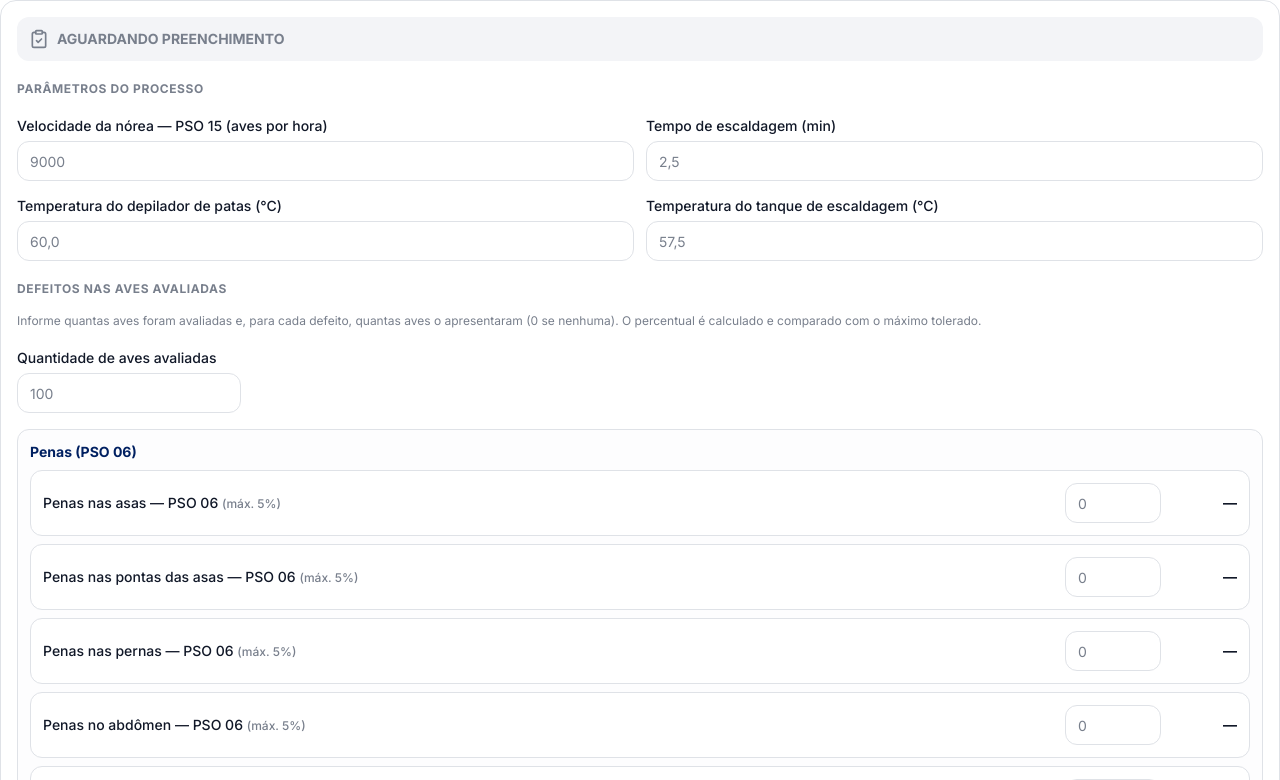
Test case: EscaldagemDepenagemField › devolve o percentual de cada defeito e marca CONFORME dentro do máximo
Type "200" into the field labelled "Quantidade de aves avaliadas". click: (129, 393)
box: [17, 373, 241, 413]
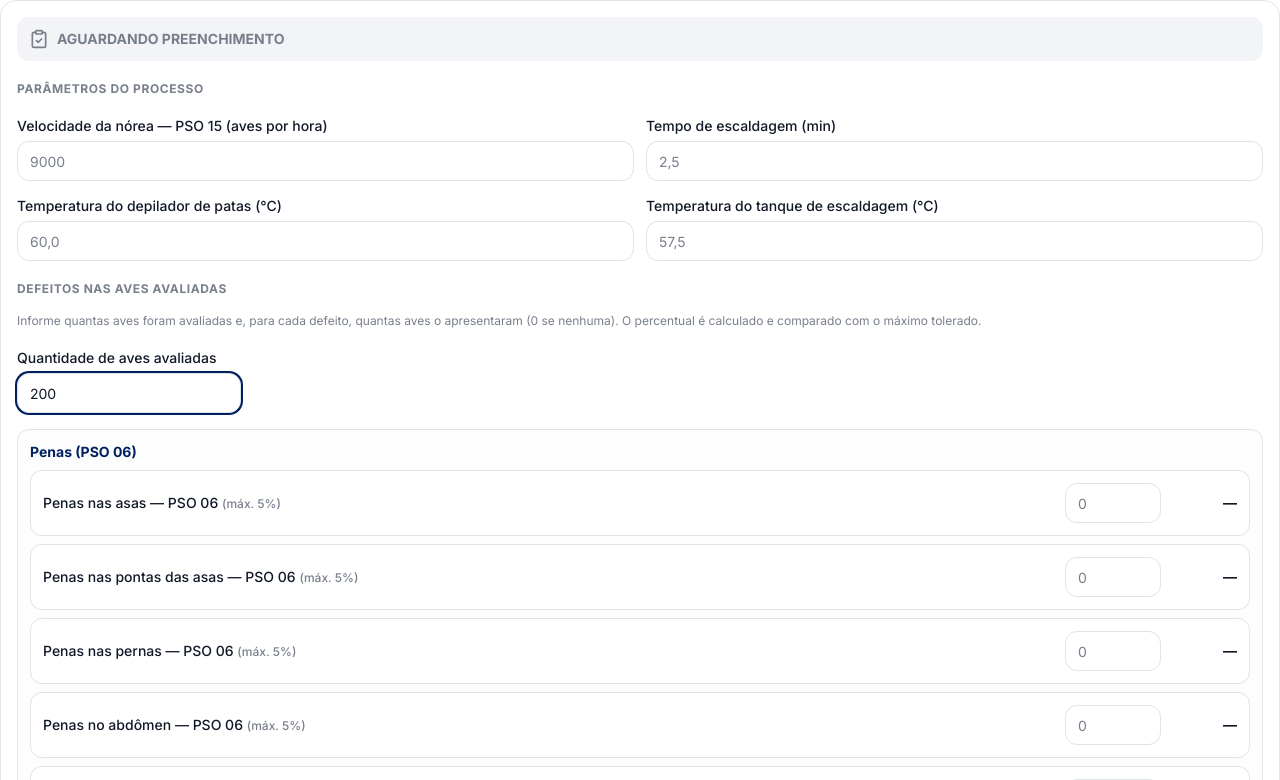
Type "6" into the field named "Penas nas asas — PSO 06: quantidade de aves". click: (1113, 503)
box: [1065, 483, 1161, 523]
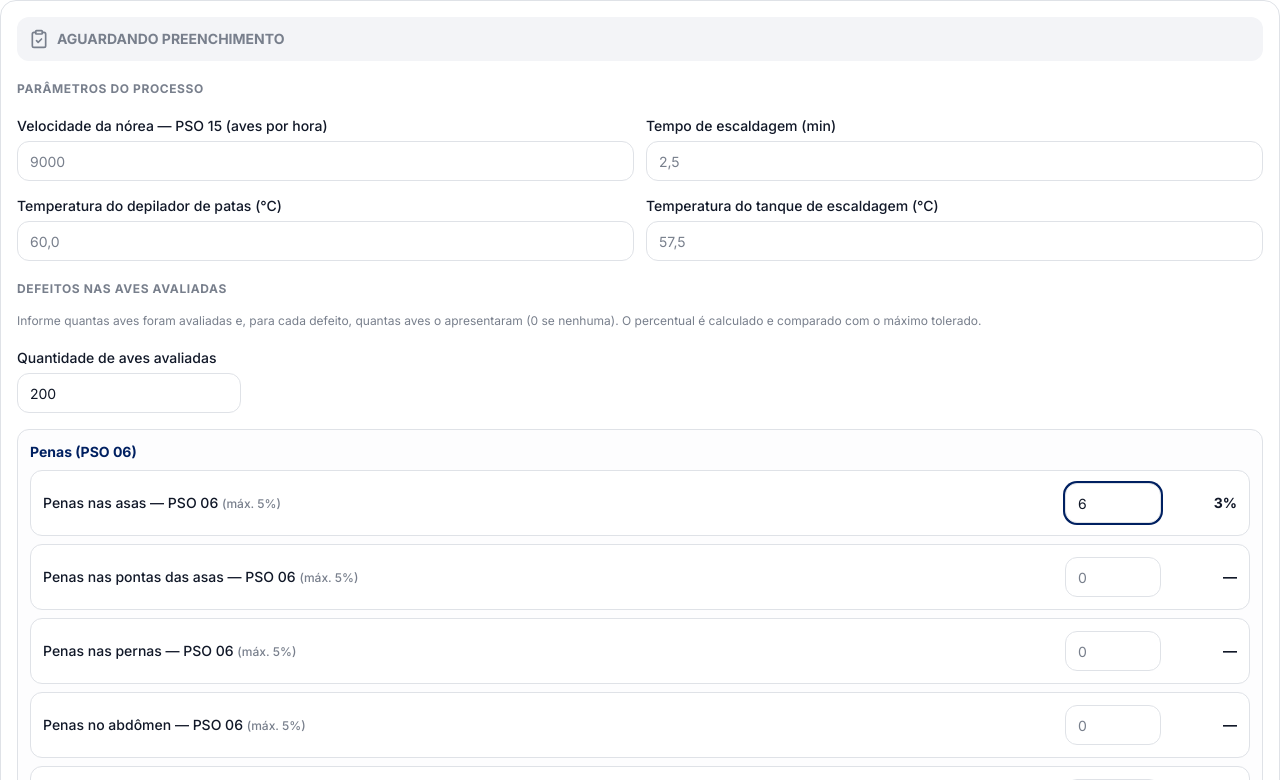
Result: the text with test id "pct-penasAsas" reads "3%" at [1214, 494, 1237, 511]
